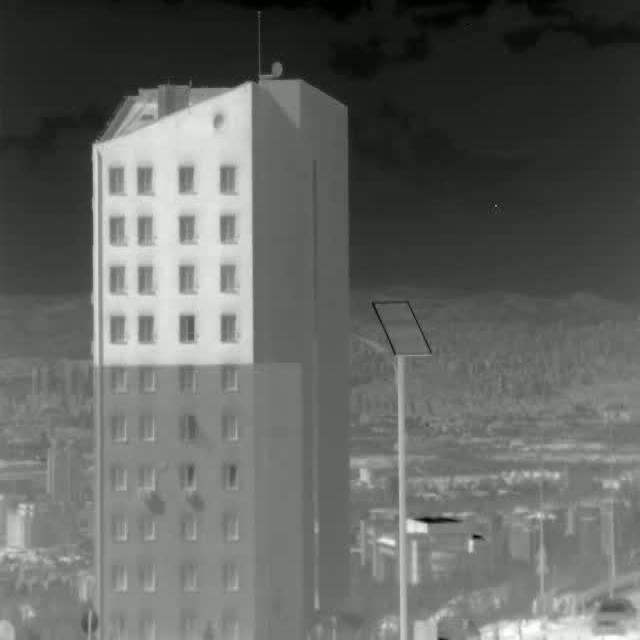Car: (592, 596, 640, 637)
